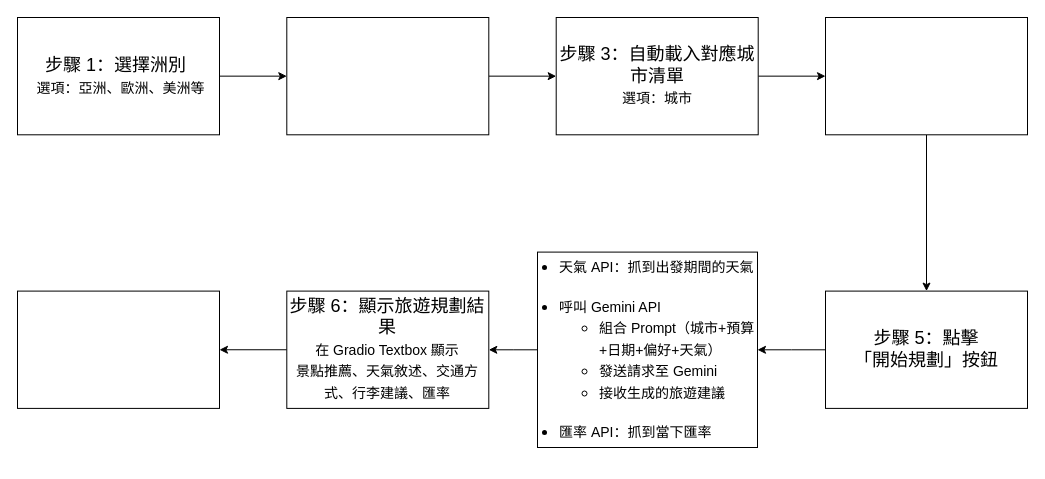
The diagram is 1045 pixels wide and 479 high, and some of its shapes have lost their labels. The shapes that lost their labels are listed below. From the top down, each one's centre as x and y in pixels, then its label:
At point 387,75: "步驟 2：自動載入對應國家清單 選項：國家".
At point 926,75: "步驟 4：輸入旅遊資訊 預算（Number Input） 日期區間（Number Input） 旅遊偏好（Check box）".
At point 118,349: "步驟 7：可點擊 「下載 PDF」按鈕".
